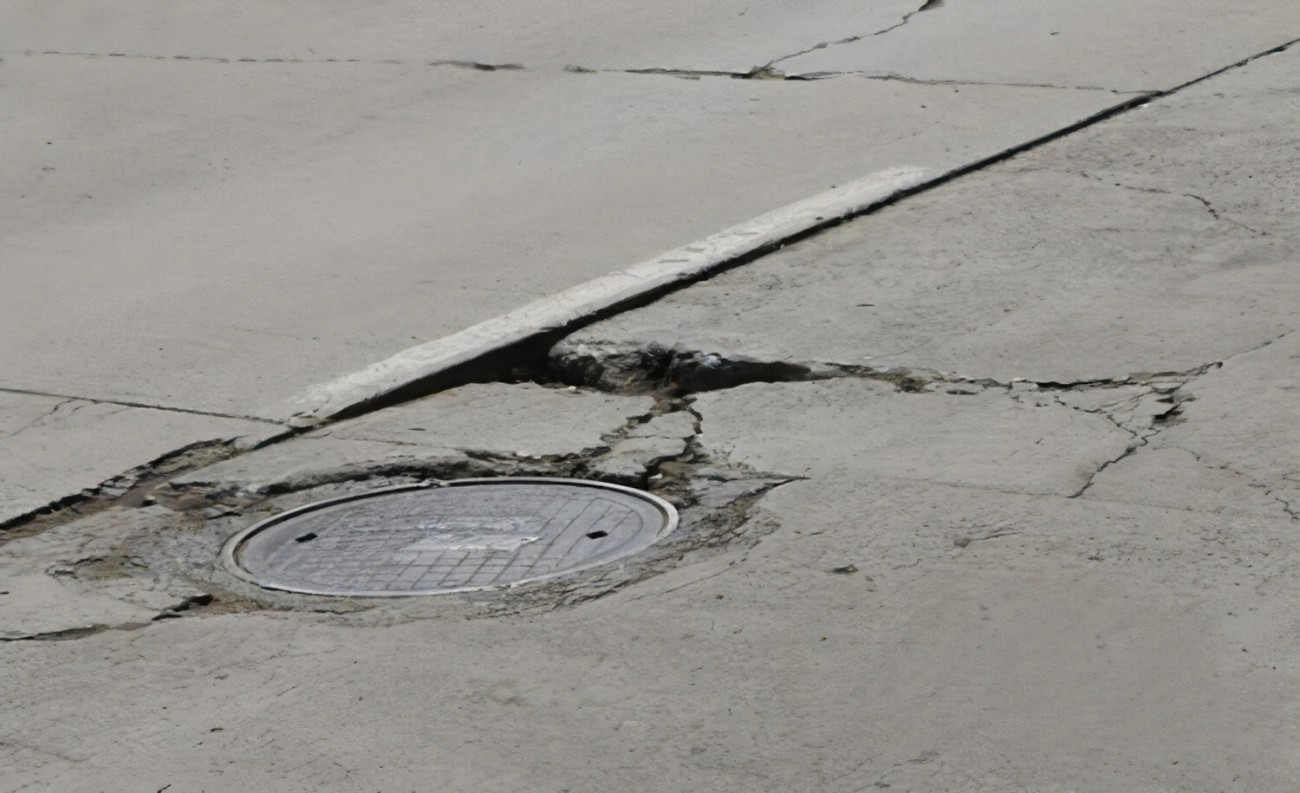circle: (76, 315, 835, 644)
